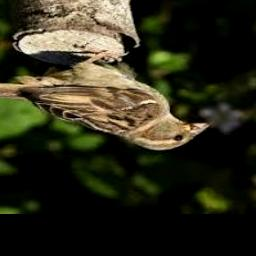Sparrow: (0, 53, 210, 151)
